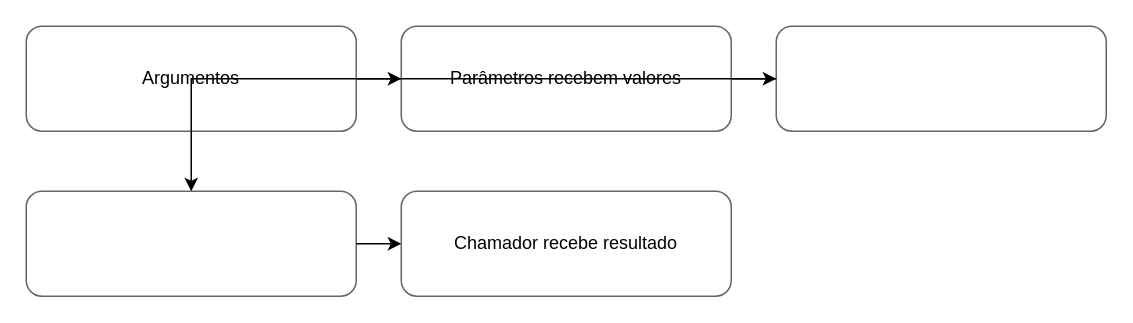
This 1133x323 diagram has some shape labels left out. The centre of each missing label's shape, as x and y in pixels:
"Método executa" goes at point (940, 78).
"return produz valor" goes at point (190, 243).
